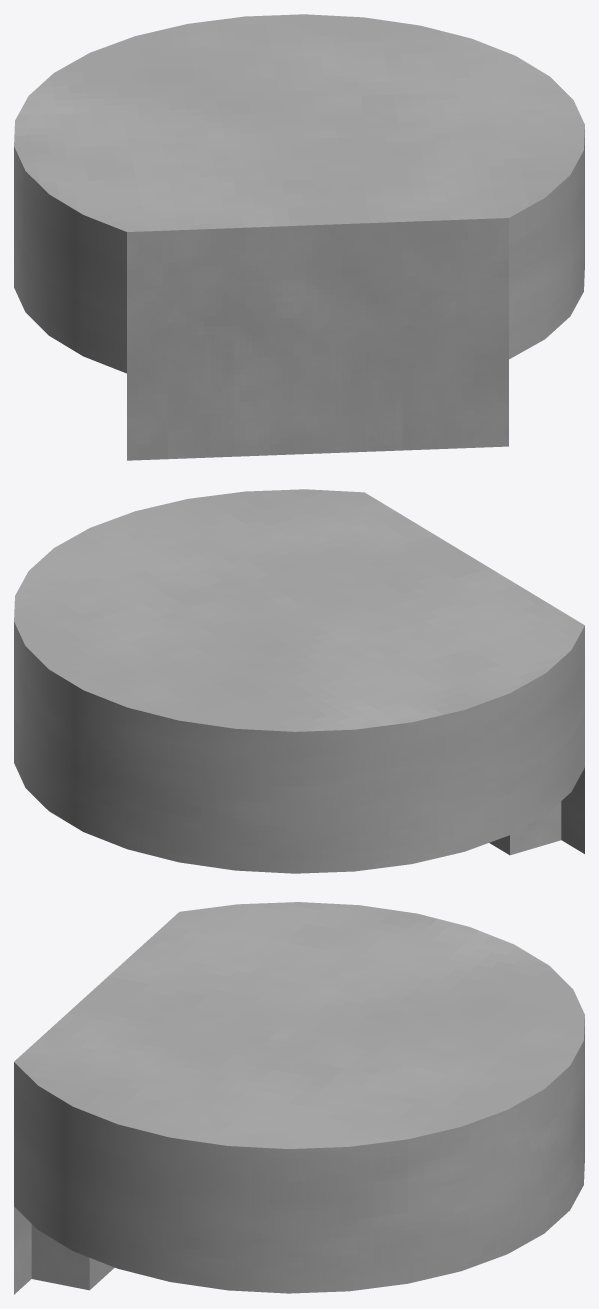
3 views of the same model, one above another, from view 1: azimuth 30°, elevation 25°; view 2: azimuth 150°, elevation 25°; view 3: azimuth 270°, elevation 25° (orthographic). The views are drawn at different scales.
Parts seen in each view (by area): view 1: model_0_submesh_0; view 2: model_0_submesh_0; view 3: model_0_submesh_0.
Boxes of the visible parts, left/top/right/bottom form: model_0_submesh_0: left=14, top=14, right=584, bottom=460; model_0_submesh_0: left=14, top=489, right=584, bottom=873; model_0_submesh_0: left=14, top=902, right=584, bottom=1294.
Size of the model in its own units: 29.85 by 13.14 by 29.15.
